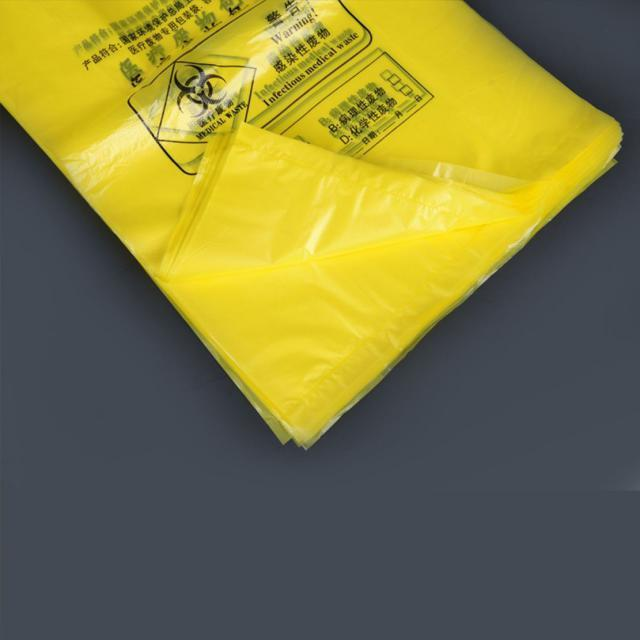waste: (1, 0, 628, 445)
